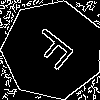F: (27, 25, 84, 78)
